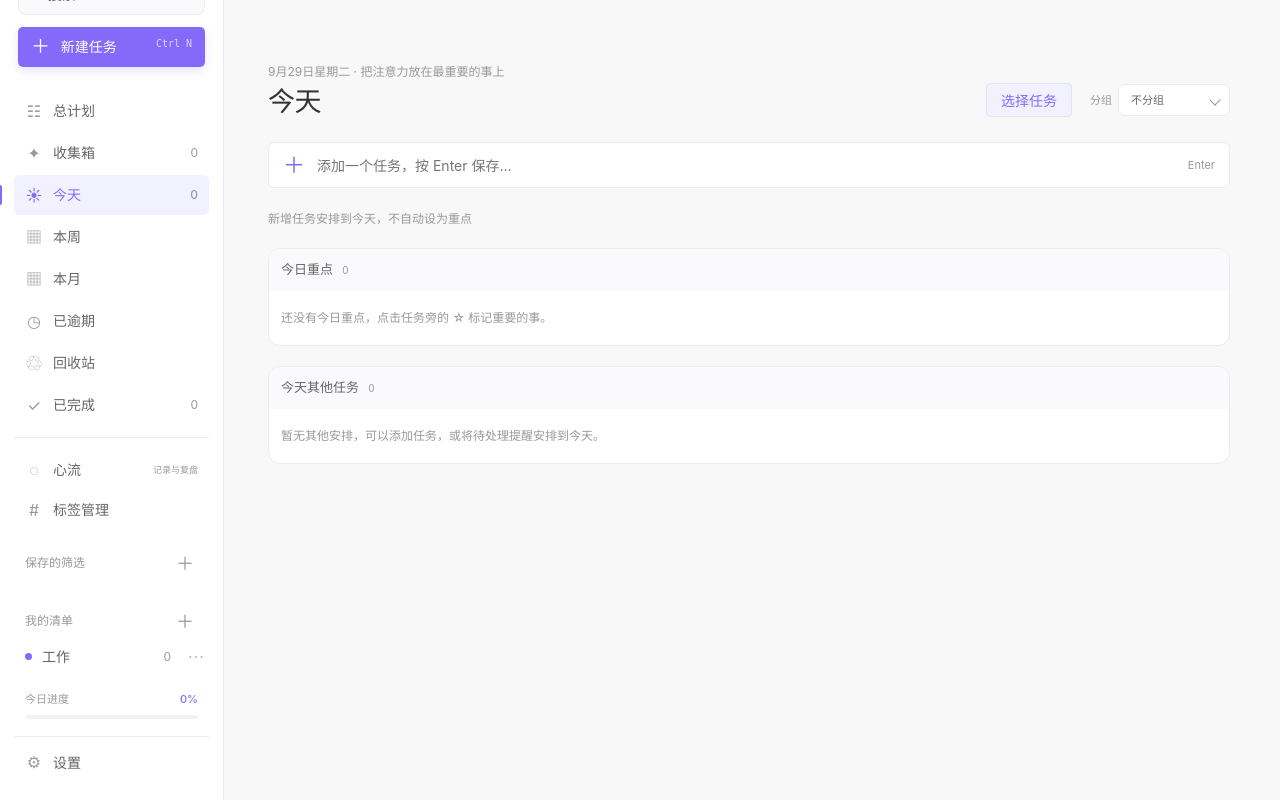
Test: App critical interactions › restores the last saved theme when persistence fails
The width and height of the screenshot is (1280, 800).
(page scrolled)
Click the button with class "nav-item" showing "⚙ 设置".
click(112, 762)  # box [14,742,209,782]
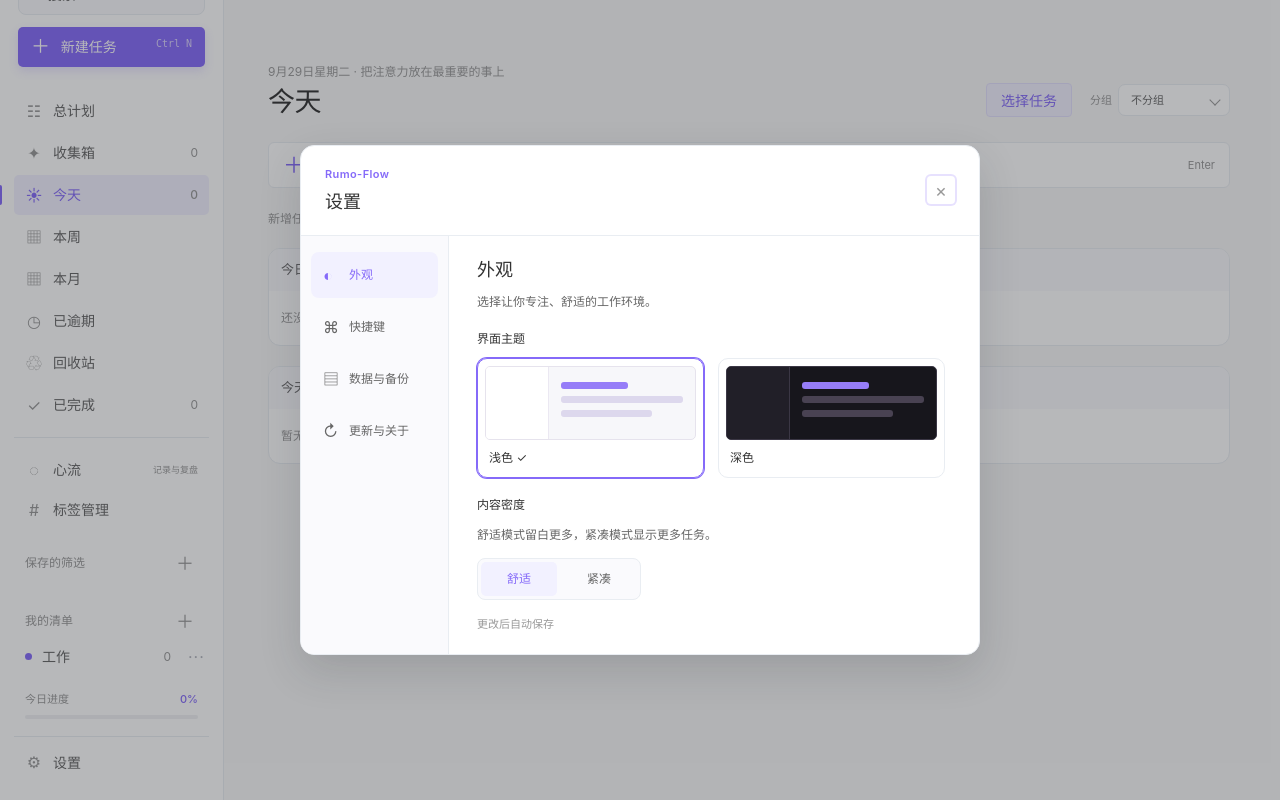
Click the button with class "theme-option" showing "深色".
click(832, 418)  # box [718,358,945,478]
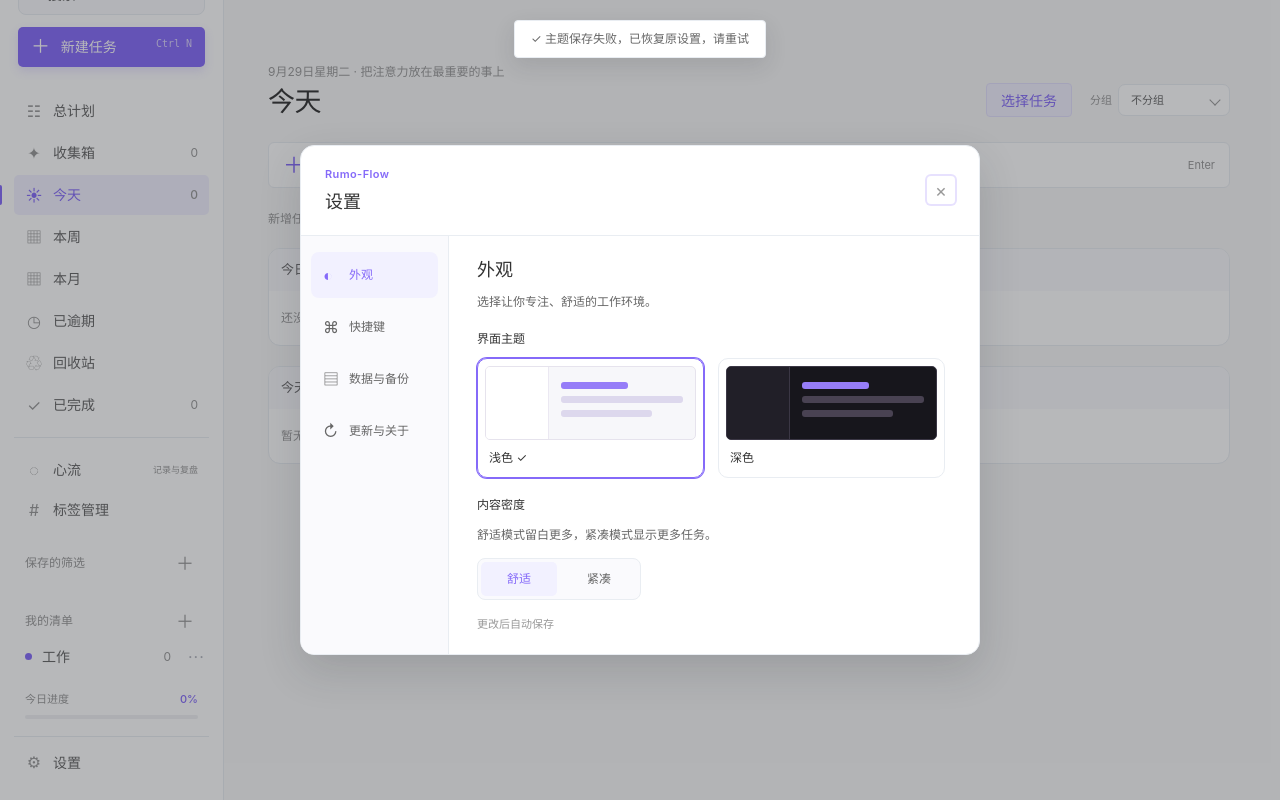
expect the text "主题保存失败，已恢复原设置" is shown: met, box [531,31,749,46]
